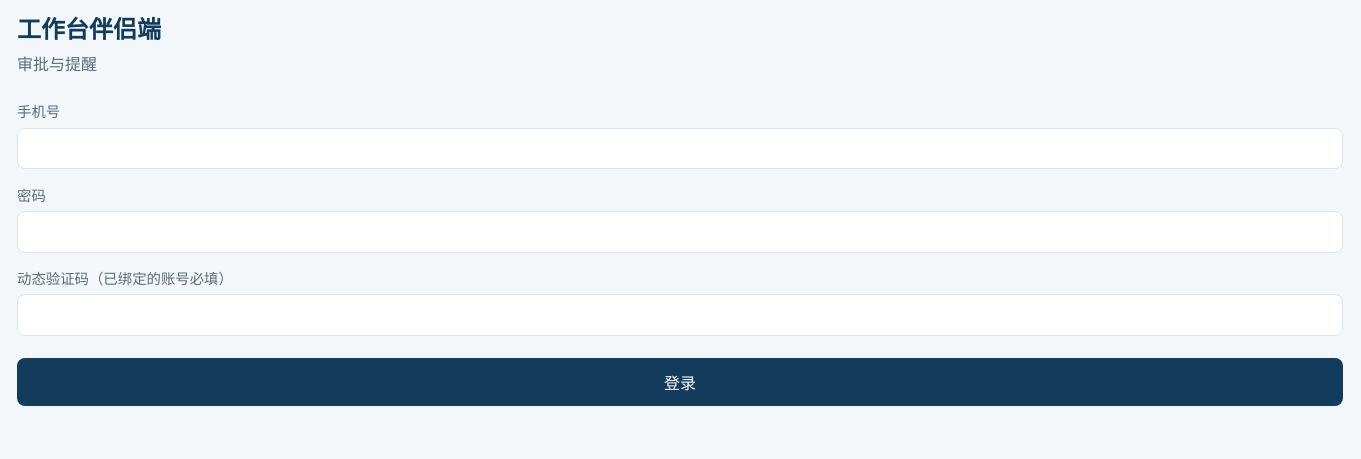
Test case: LoginPage › shows a friendly message on 401 and stores no session
This screenshot has width=1361, height=459.
In the field labelled "手机号": {"x": 680, "y": 148} [17, 128, 1343, 169], type "13800000000"
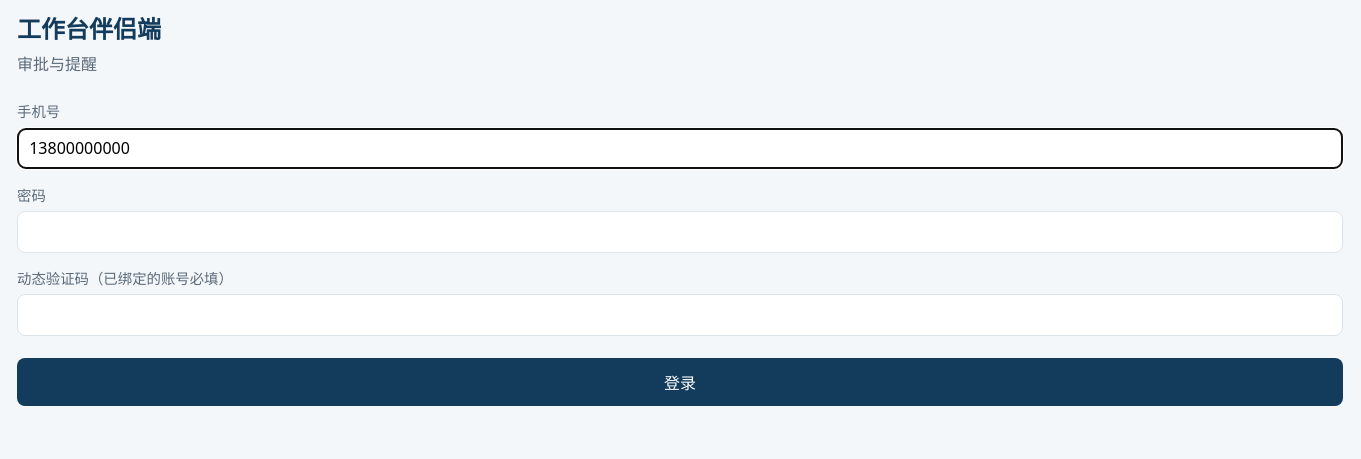
In the password field labelled "密码": {"x": 680, "y": 232} [17, 211, 1343, 253], type "wrong-password"
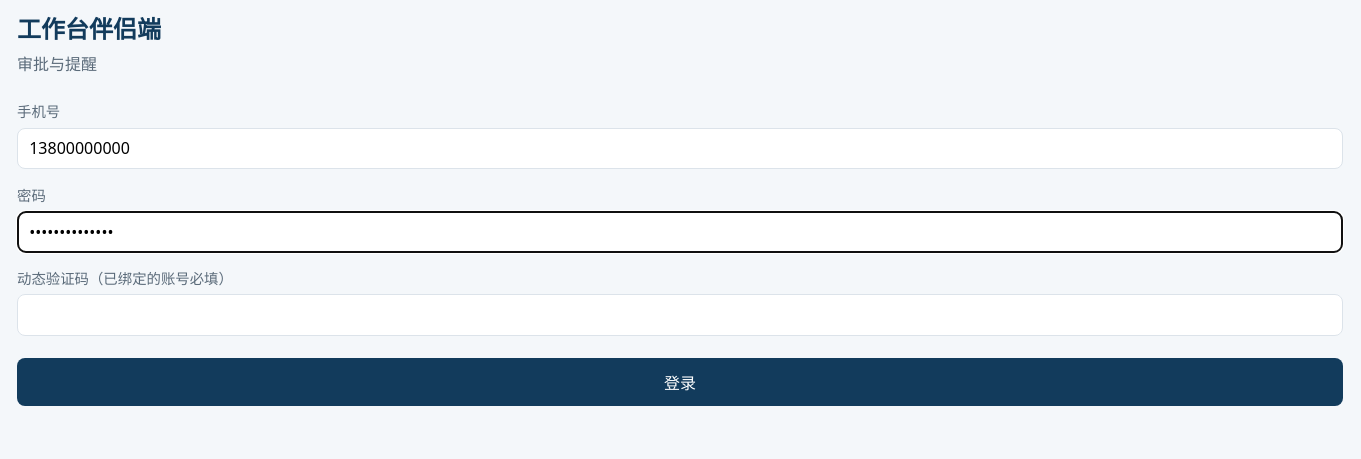
Click the button "登录": {"x": 680, "y": 382} [17, 358, 1343, 406]
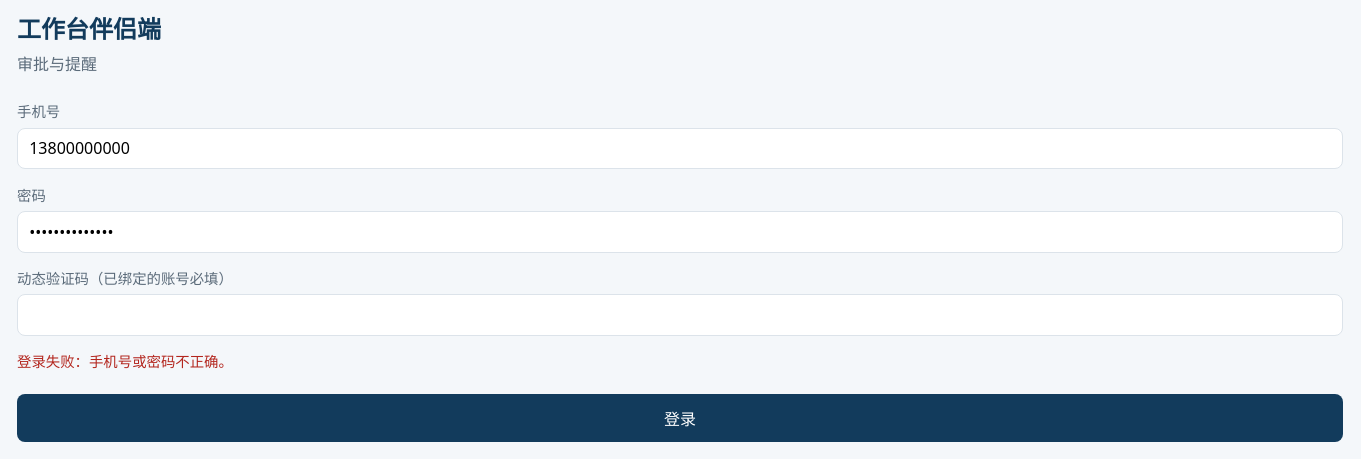
Now the message shows "手机号或密码不正确", box [17, 352, 233, 371]
